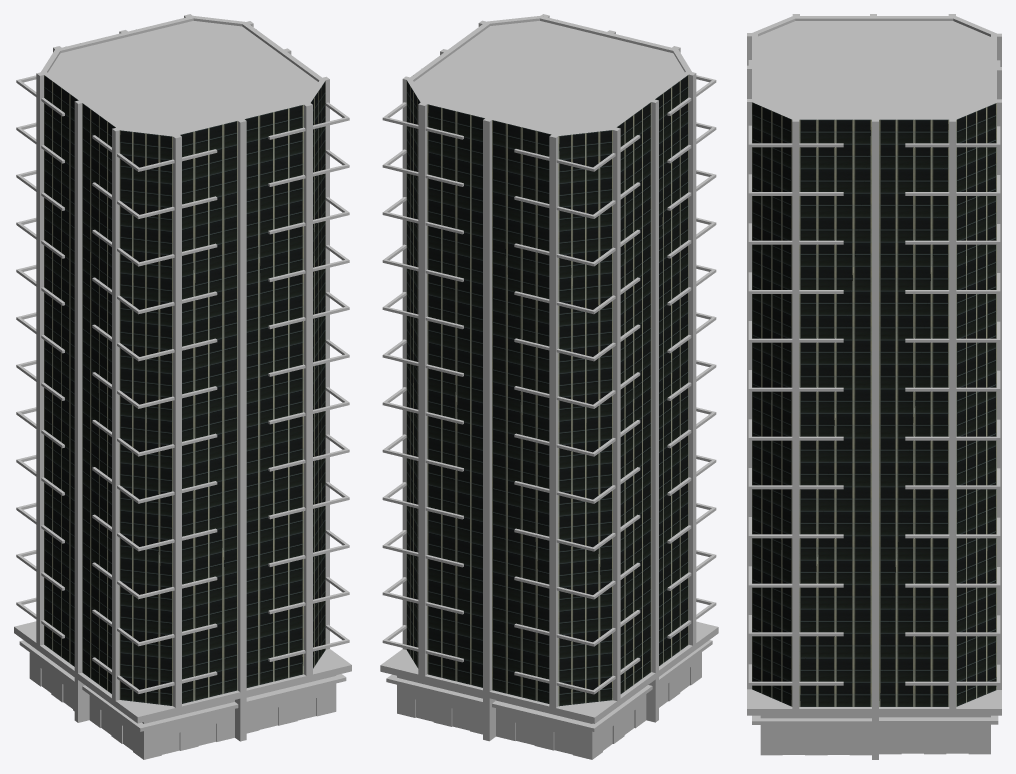
3 views of the same model, side by side, from view 1: azimuth 30°, elevation 25°; view 2: azimuth 150°, elevation 25°; view 3: azimuth 270°, elevation 25° (orthographic). The views are drawn at different scales.
Visible parts, largest first — view 1: BC-064; view 2: BC-064; view 3: BC-064.
Boxes of the visible parts, left/top/right/bottom form: BC-064: left=14, top=14, right=351, bottom=759; BC-064: left=380, top=14, right=718, bottom=759; BC-064: left=747, top=14, right=1001, bottom=759.
Size of what is drawn, in the model's own units: 31.21 by 86.21 by 31.21.
